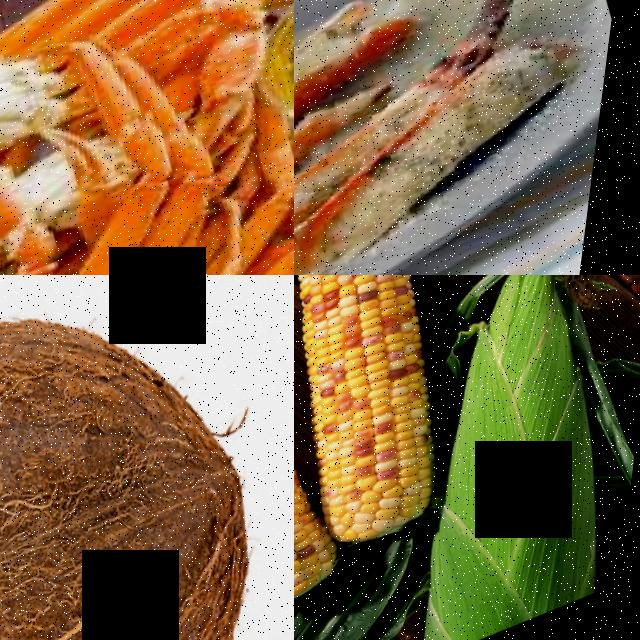coconut: (0, 275, 294, 640)
corn: (294, 314, 491, 554), (294, 410, 377, 640), (294, 275, 447, 350)
crab: (0, 21, 294, 275), (0, 0, 294, 99)
